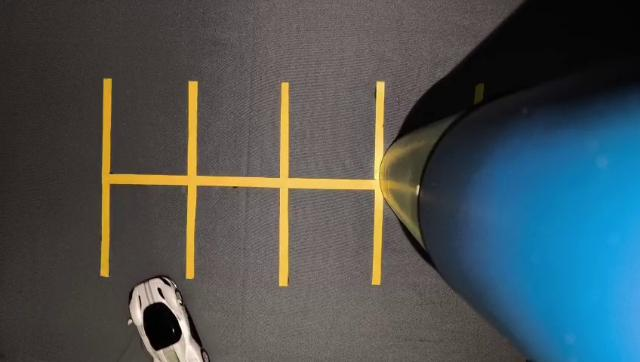toy_car: (111, 238, 225, 362)
